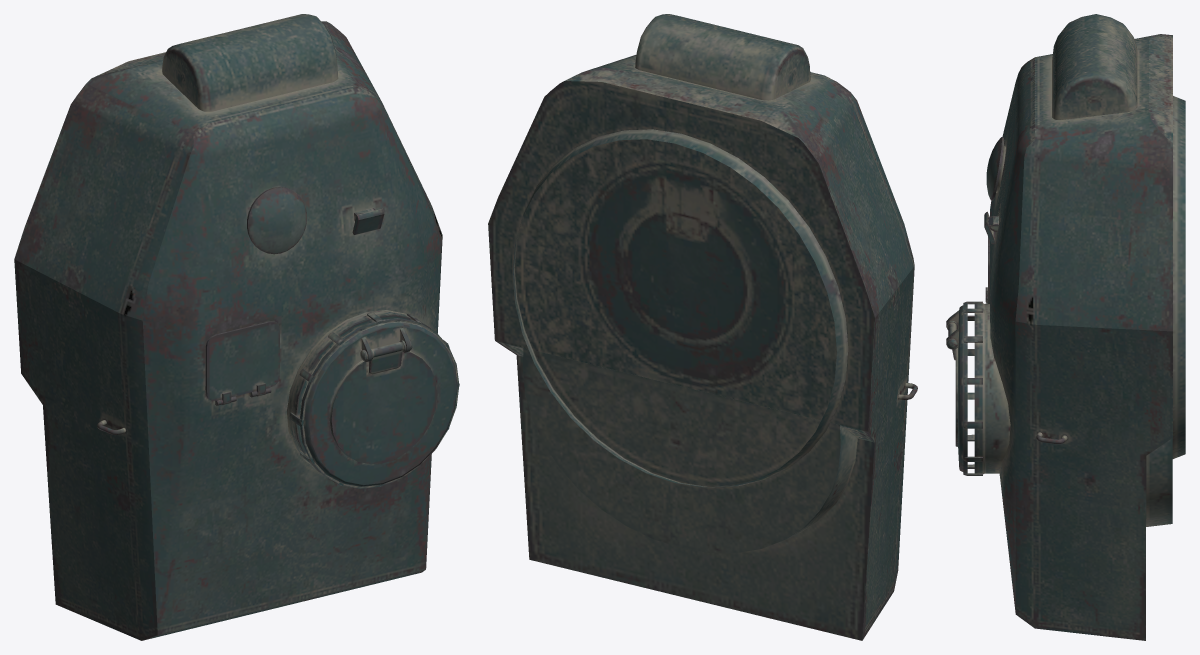
File: Turret_01.glb
3 renders of one model, left to right at view 1: azimuth 30°, elevation 25°; view 2: azimuth 150°, elevation 25°; view 3: azimuth 270°, elevation 25°, orthographic. The views are drawn at different scales.
Visible parts, largest first — view 1: set_0_group_0; view 2: set_0_group_0; view 3: set_0_group_0.
Part boxes in pixels (box(x1,y1,x2,y2)): set_0_group_0: box(14, 14, 459, 640); set_0_group_0: box(488, 14, 917, 640); set_0_group_0: box(946, 14, 1185, 640).
Size of the model in its own units: 2.34 by 3.17 by 1.32.
1 material, 1 textured.
